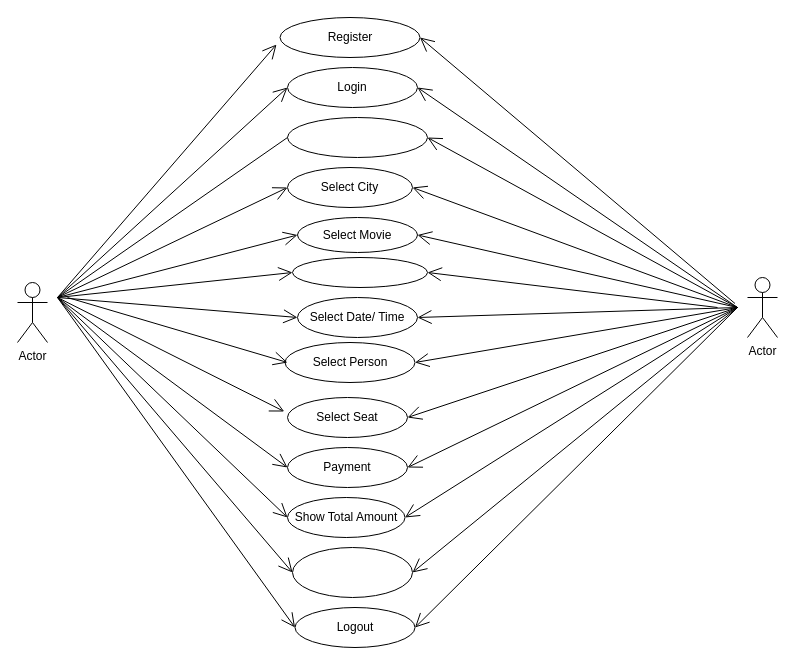
The diagram is 795 pixels wide and 665 high, and some of its shapes have lost their labels. The box of each missing label's shape, as (x1, y1, x2, y2) in pixels:
Book Ticket: (292, 256, 428, 288)
Home Page: (286, 116, 428, 158)
Payment Successfully: (292, 546, 412, 598)
